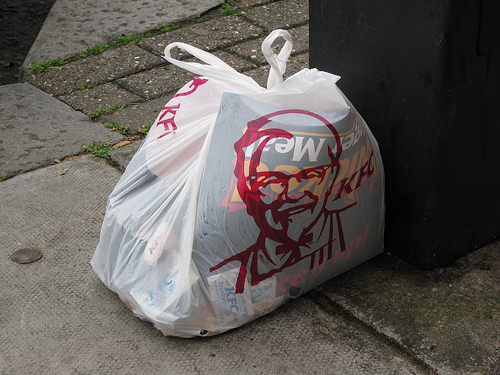litter: (89, 26, 386, 341)
